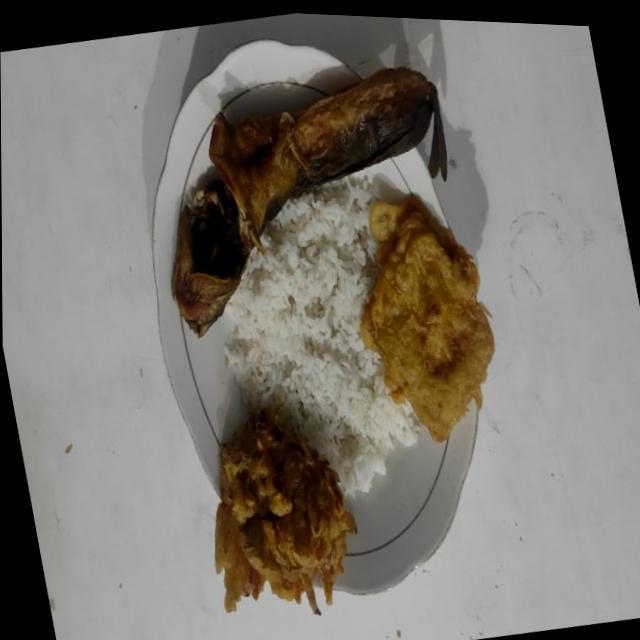nasi_putih: (226, 172, 420, 498)
